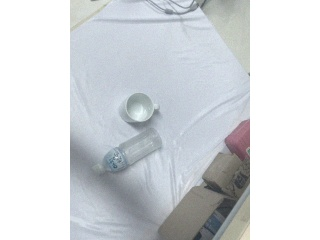bottle: (92, 127, 163, 175)
box: (203, 153, 250, 198)
cup: (116, 88, 161, 124)
